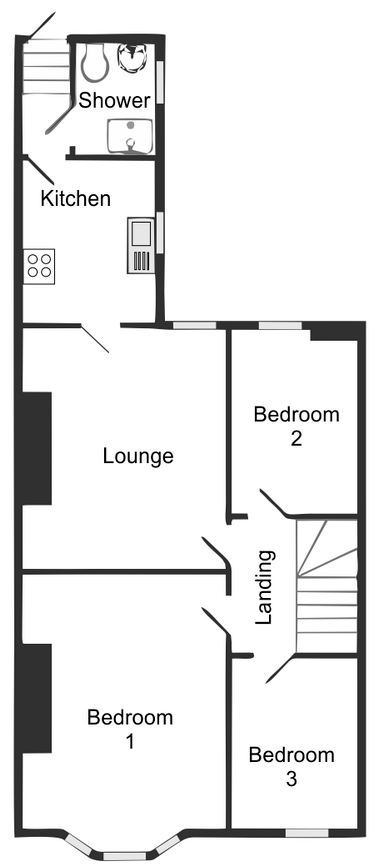door: (22, 97, 73, 132), (24, 10, 70, 44), (27, 151, 66, 185), (203, 524, 235, 565), (253, 653, 295, 683), (82, 321, 120, 353), (247, 490, 287, 520), (203, 594, 231, 632)
shower: (108, 115, 154, 155)
sink: (127, 216, 154, 275), (114, 43, 149, 72)
stairs: (295, 518, 356, 653), (25, 34, 69, 97)
toilet: (81, 43, 110, 84)
window: (153, 59, 166, 106), (65, 833, 92, 855), (154, 836, 181, 854), (171, 320, 214, 331), (258, 322, 302, 332), (284, 829, 326, 838), (104, 853, 146, 860)
